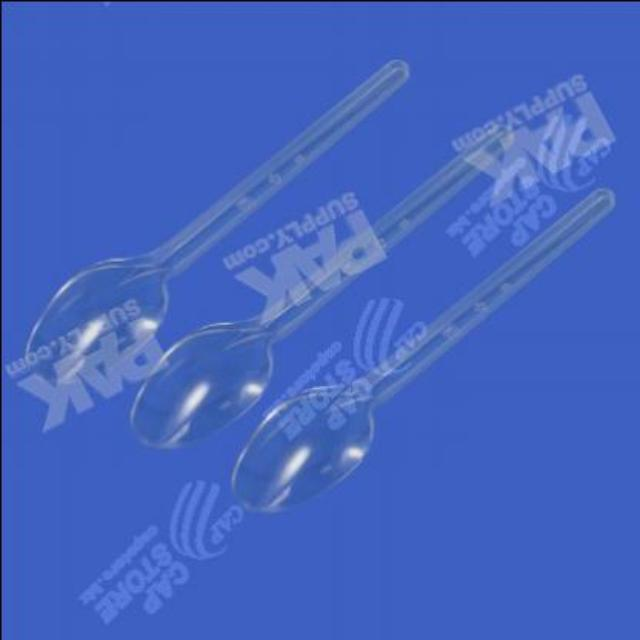plastic_box: (22, 56, 612, 512)
